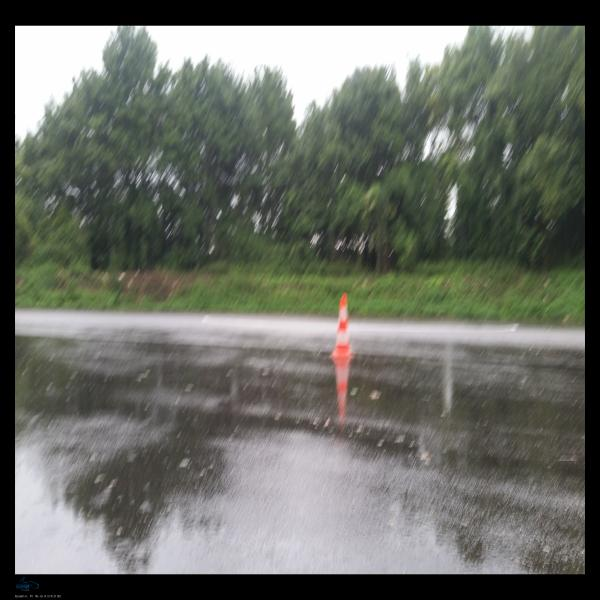large_orange_cone: (328, 294, 355, 358)
